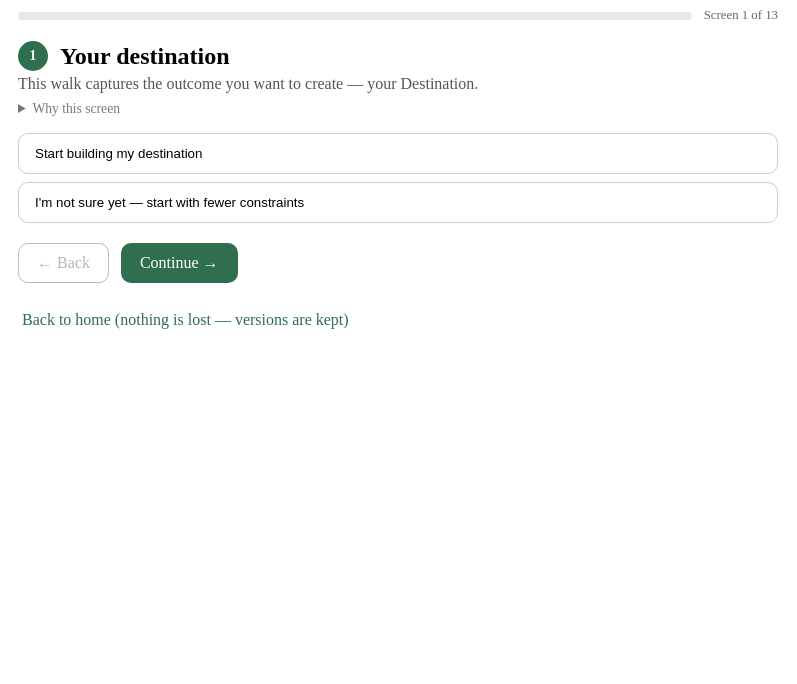
Test: DestinationBuilder anatomy › jumping to a past decision preserves the draft built so far
Click the button "Start building my destination" at (119, 154), box top-left (18, 133), bottom-right (778, 174)
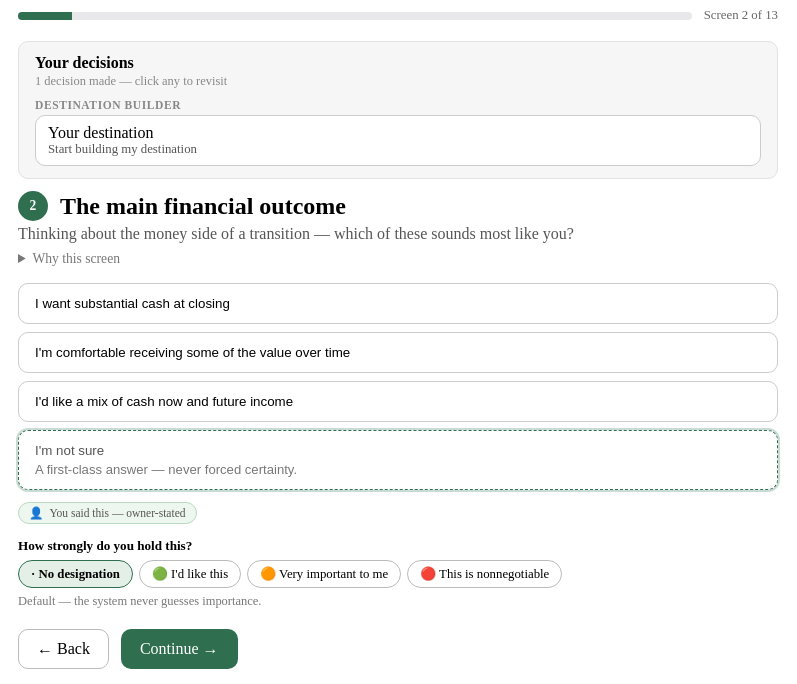
Click the button "I want substantial cash at closing" at (132, 304), box top-left (18, 283), bottom-right (778, 324)
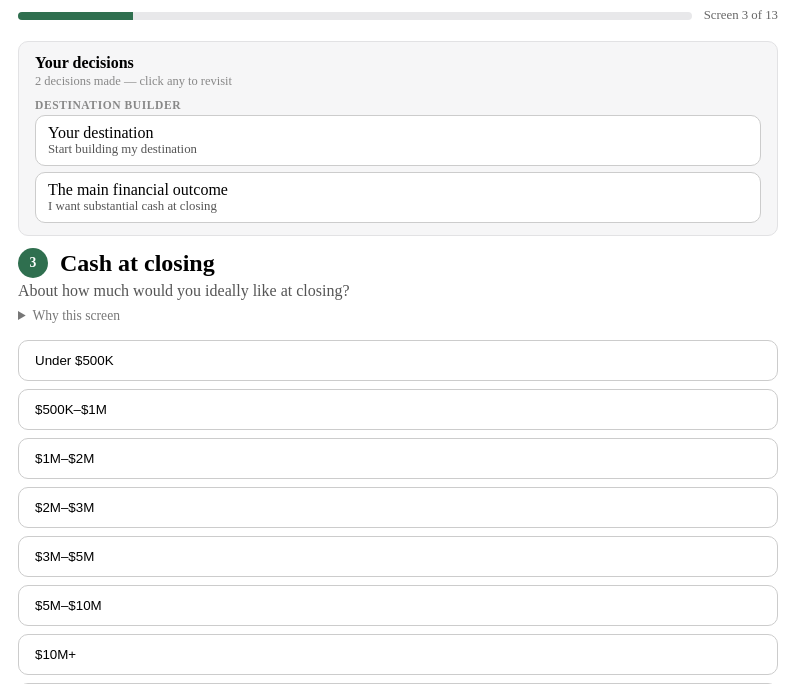
Expected: the button with class "node" that starts with "Your destination" is shown
Expected: the heading "3 Cash at closing" is shown, top-left (18, 248), bottom-right (215, 278)
Click the button with class "node" that starts with "Your destination" at (101, 132), box top-left (35, 115), bottom-right (761, 166)
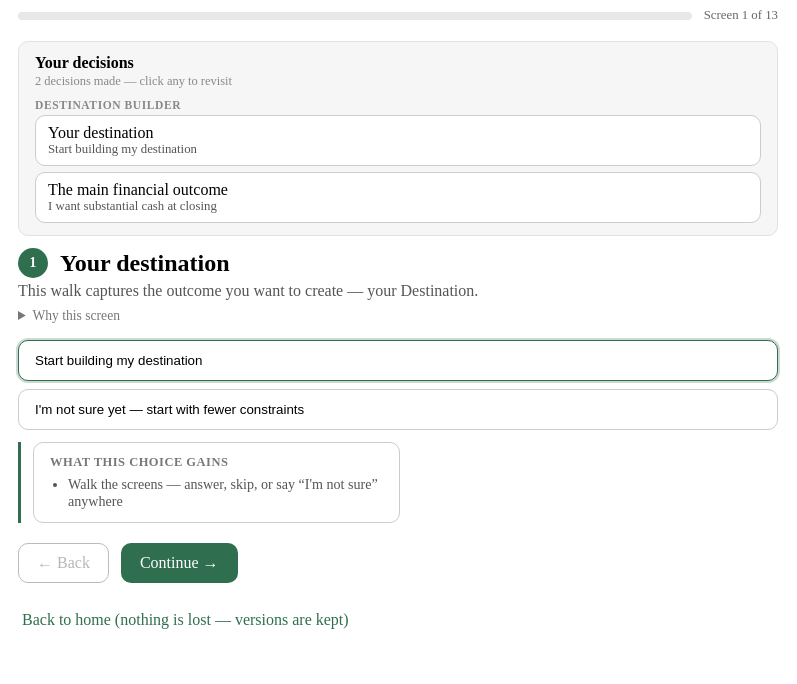
Expected: the heading "1 Your destination" is shown, top-left (18, 248), bottom-right (230, 278)
Continue forward — the financial answer survived the jump.
Click the button "Continue →" at (179, 563), box top-left (121, 543), bottom-right (238, 583)
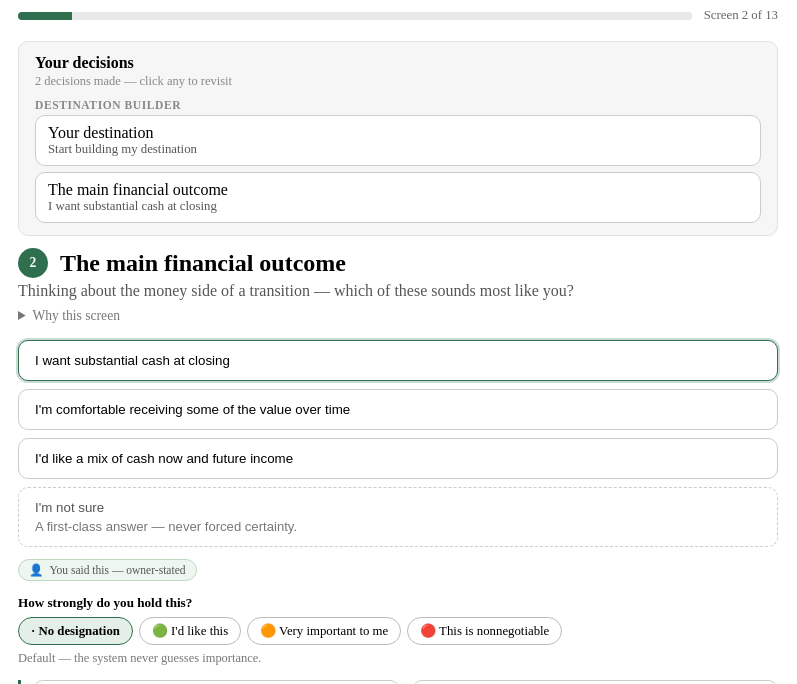
Expected: the heading "2 The main financial outcome" is shown, top-left (18, 248), bottom-right (346, 278)
